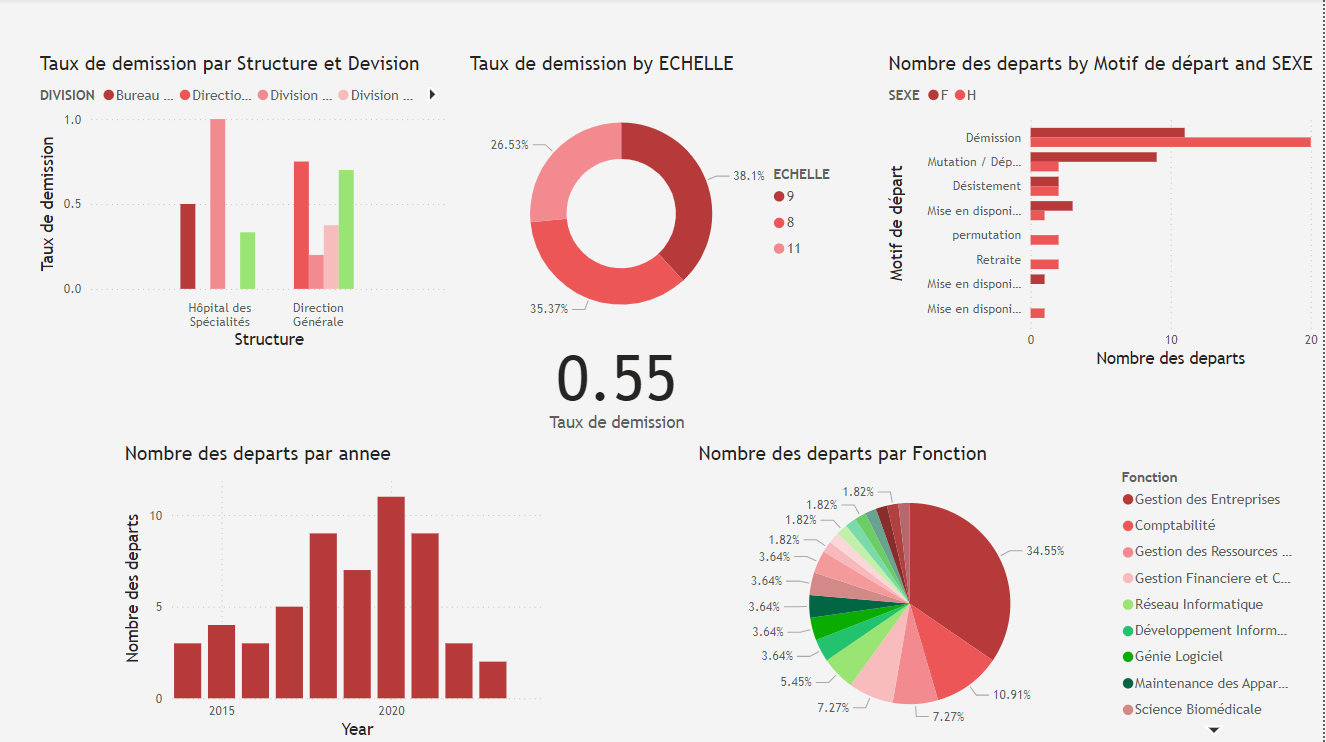

The dashboard page shown, as its layout file describes it:
{"tool":"powerbi","page":{"name":"Employees","canvas":[1280,720],"ordinal":1},"visuals":[{"type":"donutChart","fields":{"Category":["Départs ADMINISTRATIF.ECHELLE"],"Y":["Mesures Table.Taux de demission"]},"box":[450.7,51.9,377,291.2],"z":0},{"type":"clusteredBarChart","fields":{"Category":["Départs ADMINISTRATIF.Motif de départ"],"Y":["Mesures Table.Nombre des departs"],"Series":["Départs ADMINISTRATIF.SEXE"]},"box":[855.6,51.9,424.8,309.1],"z":1000},{"type":"pieChart","title":"Nombre des departs par Fonction","fields":{"Category":["Départs ADMINISTRATIF.Fonction"],"Y":["Mesures Table.Nombre des departs"]},"box":[672.1,428.8,594.3,291.2],"z":2000},{"type":"clusteredColumnChart","title":"Nombre des departs par annee","fields":{"Y":["Mesures Table.Nombre des departs"],"Category":["Départs ADMINISTRATIF.Date de Départ.Variation.Date Hierarchy.Year"]},"box":[117.7,428.8,412.9,291.2],"z":3000},{"type":"clusteredColumnChart","title":"Taux de demission par Structure et Devision","fields":{"Y":["Mesures Table.Taux de demission"],"Category":["Départs ADMINISTRATIF.Structure"],"Series":["Départs ADMINISTRATIF.DIVISION"]},"box":[35.9,51.9,402.9,291.2],"z":4000},{"type":"card","fields":{"Values":["Mesures Table.Taux de demission"]},"box":[506.6,315.1,183.5,113.7],"z":6000}]}

Visuals, with their boxes in screenshot pixels (x1, y1, x2, y2), scaled from the page's 1280x720 canvas onto the 1326x742 screenshot:
donutChart - Départs ADMINISTRATIF.ECHELLE x Mesures Table.Taux de demission: 467, 53, 857, 354
clusteredBarChart - Départs ADMINISTRATIF.Motif de départ x Mesures Table.Nombre des departs: 886, 53, 1325, 372
"Nombre des departs par Fonction" pieChart: 696, 442, 1312, 741
"Nombre des departs par annee" clusteredColumnChart: 122, 442, 550, 741
"Taux de demission par Structure et Devision" clusteredColumnChart: 37, 53, 455, 354
card - Mesures Table.Taux de demission: 525, 325, 715, 442
